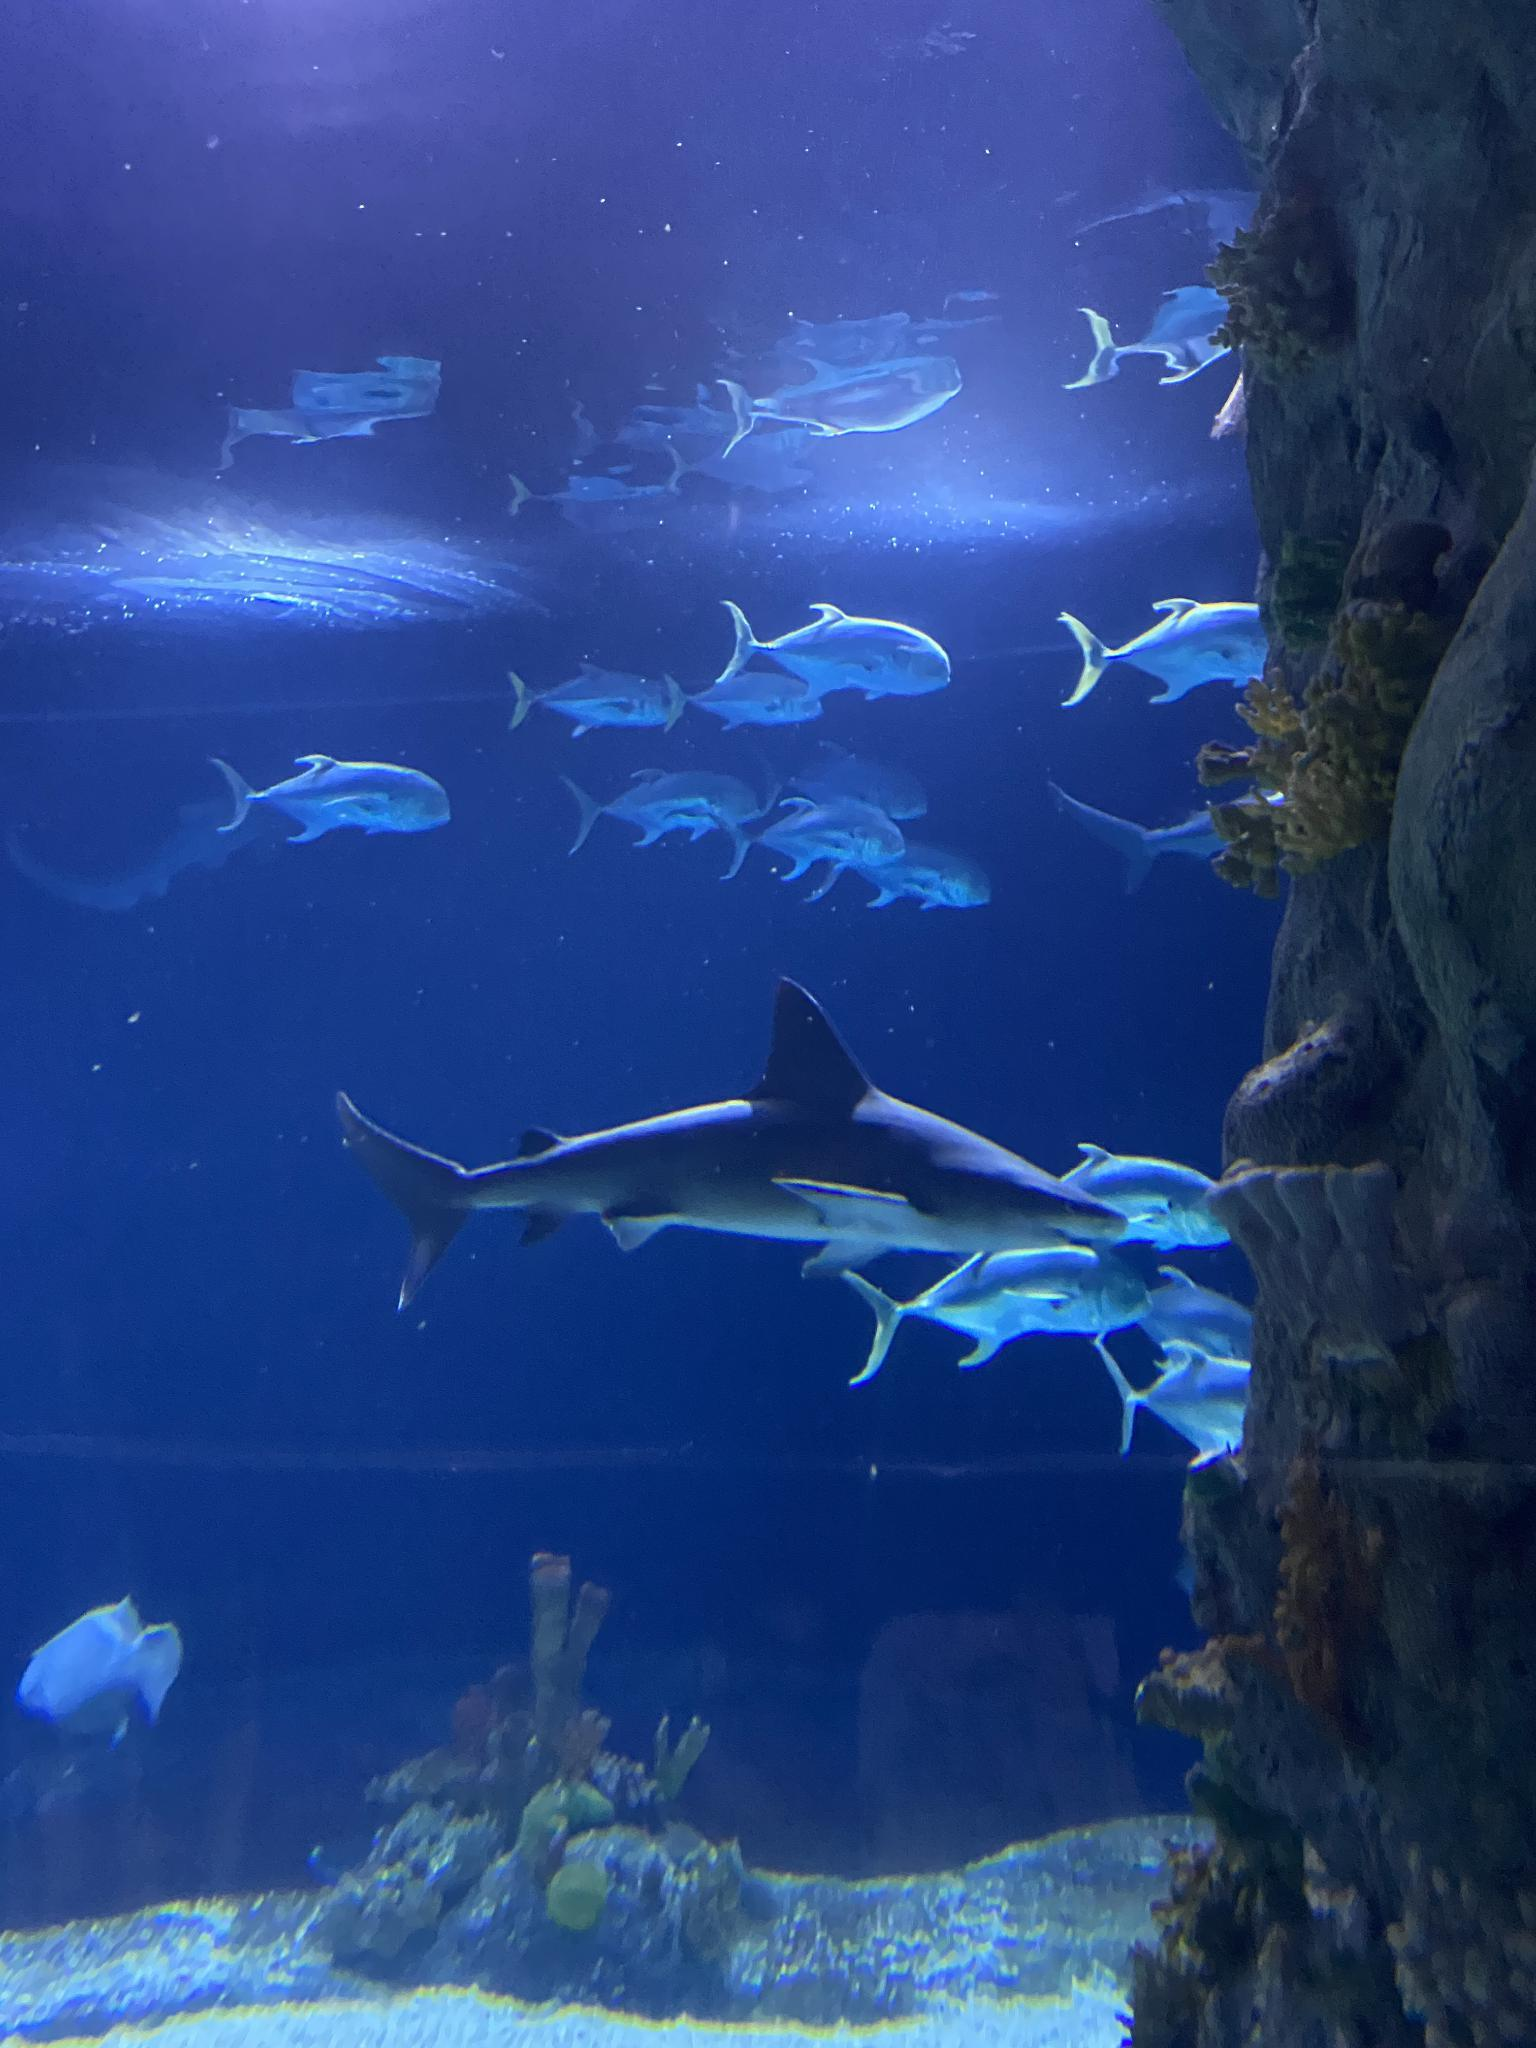fish: (837, 1243, 1167, 1390), (189, 742, 465, 861), (707, 589, 962, 718), (1054, 593, 1299, 710), (537, 760, 766, 880), (21, 1588, 189, 1750), (1087, 1326, 1268, 1472), (1037, 1135, 1246, 1255), (720, 355, 963, 455), (716, 797, 915, 910), (487, 647, 699, 743), (1096, 1261, 1252, 1380), (1075, 295, 1254, 390), (850, 832, 1005, 930)
shark: (336, 972, 1125, 1317), (1049, 772, 1354, 887)
